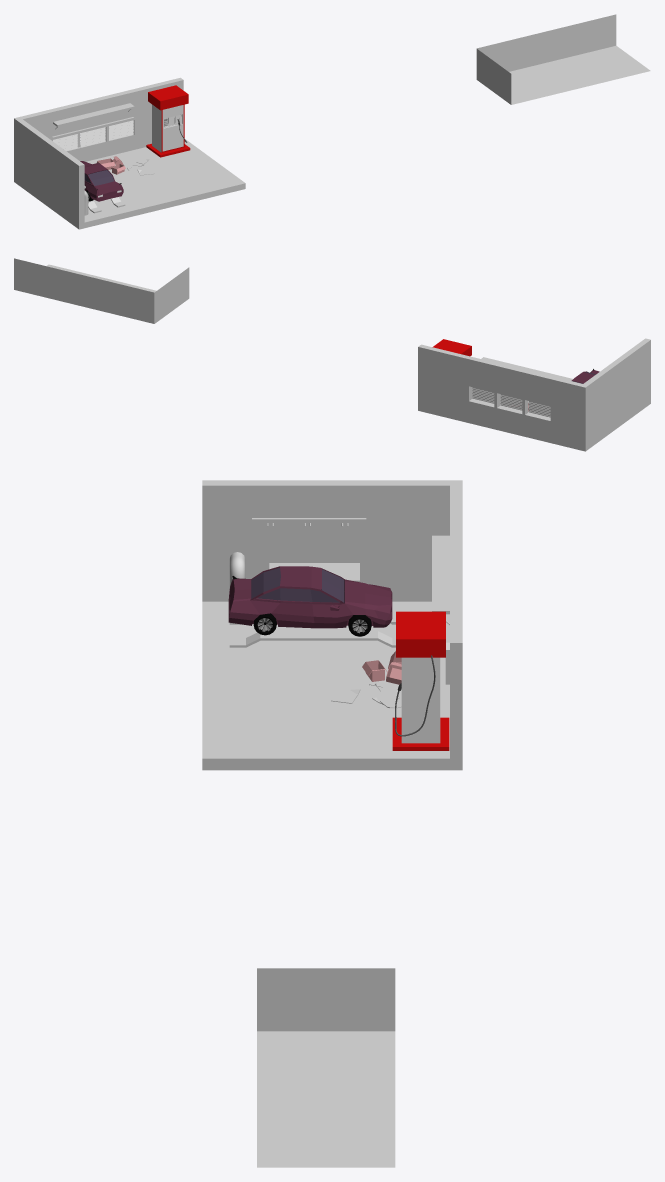
File: гараж.fbx
3 renders of one model, top to bottom at view 1: azimuth 30°, elevation 25°; view 2: azimuth 150°, elevation 25°; view 3: azimuth 270°, elevation 25°, orthographic. The views are drawn at different scales.
Visible parts, largest first — view 1: гараж, основные размеры, азс, машина, решетки, полка; view 2: гараж, основные размеры, решетки, азс; view 3: гараж, основные размеры, машина, азс, Plane, полка, вешалка.
Boxes of the visible parts, x1=… form: гараж: x1=14, y1=77, x2=245, y2=229; основные размеры: x1=476, y1=14, x2=650, y2=104; азс: x1=146, y1=85, x2=190, y2=157; машина: x1=80, y1=161, x2=123, y2=201; решетки: x1=53, y1=120, x2=133, y2=150; полка: x1=53, y1=103, x2=134, y2=126; гараж: x1=418, y1=338, x2=650, y2=451; основные размеры: x1=14, y1=258, x2=189, y2=323; решетки: x1=472, y1=387, x2=550, y2=417; азс: x1=432, y1=339, x2=471, y2=356; гараж: x1=202, y1=480, x2=462, y2=770; основные размеры: x1=257, y1=968, x2=395, y2=1167; машина: x1=228, y1=566, x2=392, y2=636; азс: x1=392, y1=611, x2=449, y2=750; Plane: x1=229, y1=615, x2=395, y2=647; полка: x1=432, y1=535, x2=449, y2=614; вешалка: x1=252, y1=518, x2=366, y2=527.
Bounding box in the file's own units: 11730 × 1218 × 2261.
